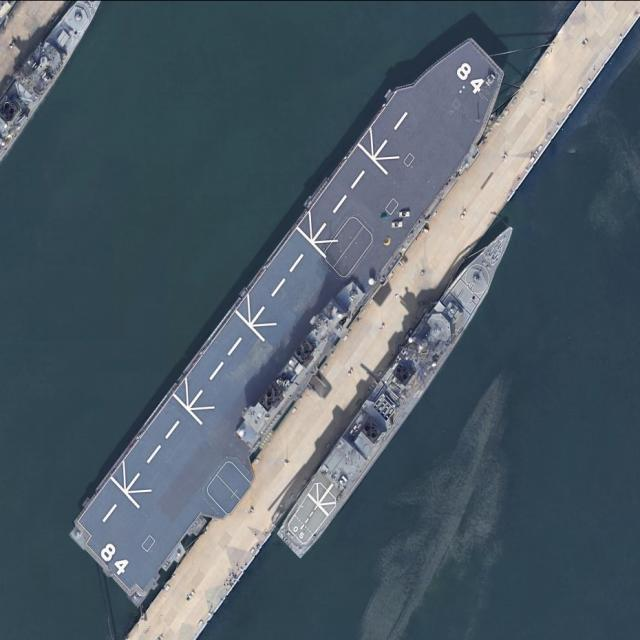Destroyer: (54, 19, 533, 614), (268, 217, 531, 561)
